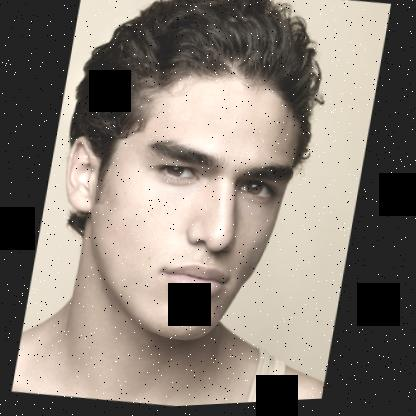Male: (40, 43, 314, 357)
